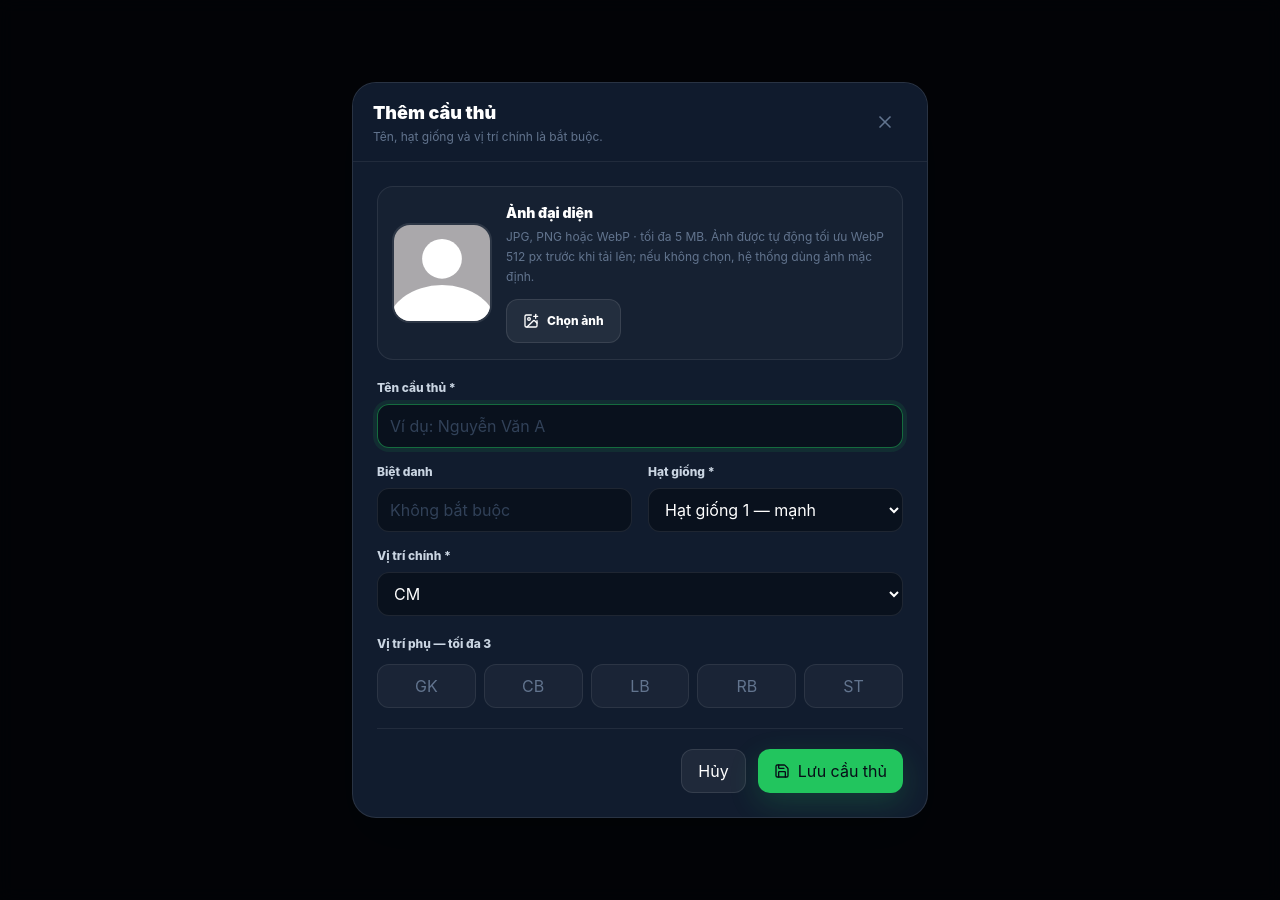
Test: PlayerFormDialog › cho phép chọn tối đa ba vị trí phụ
This screenshot has width=1280, height=900.
Step 1. Click the button "GK" → coordinates (426, 686), box [377,664,476,708]
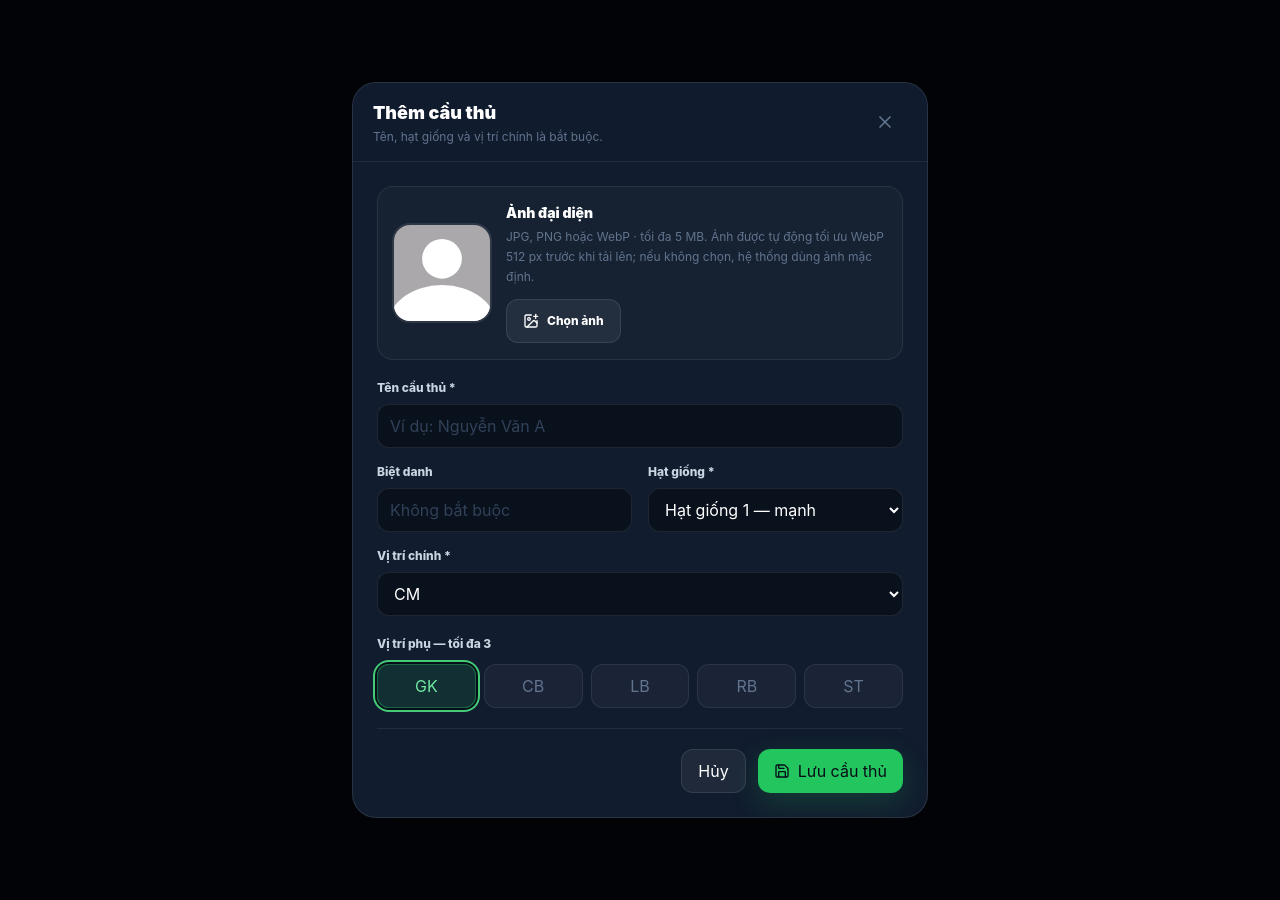
Step 2. Click the button "CB" → coordinates (533, 686), box [484,664,583,708]
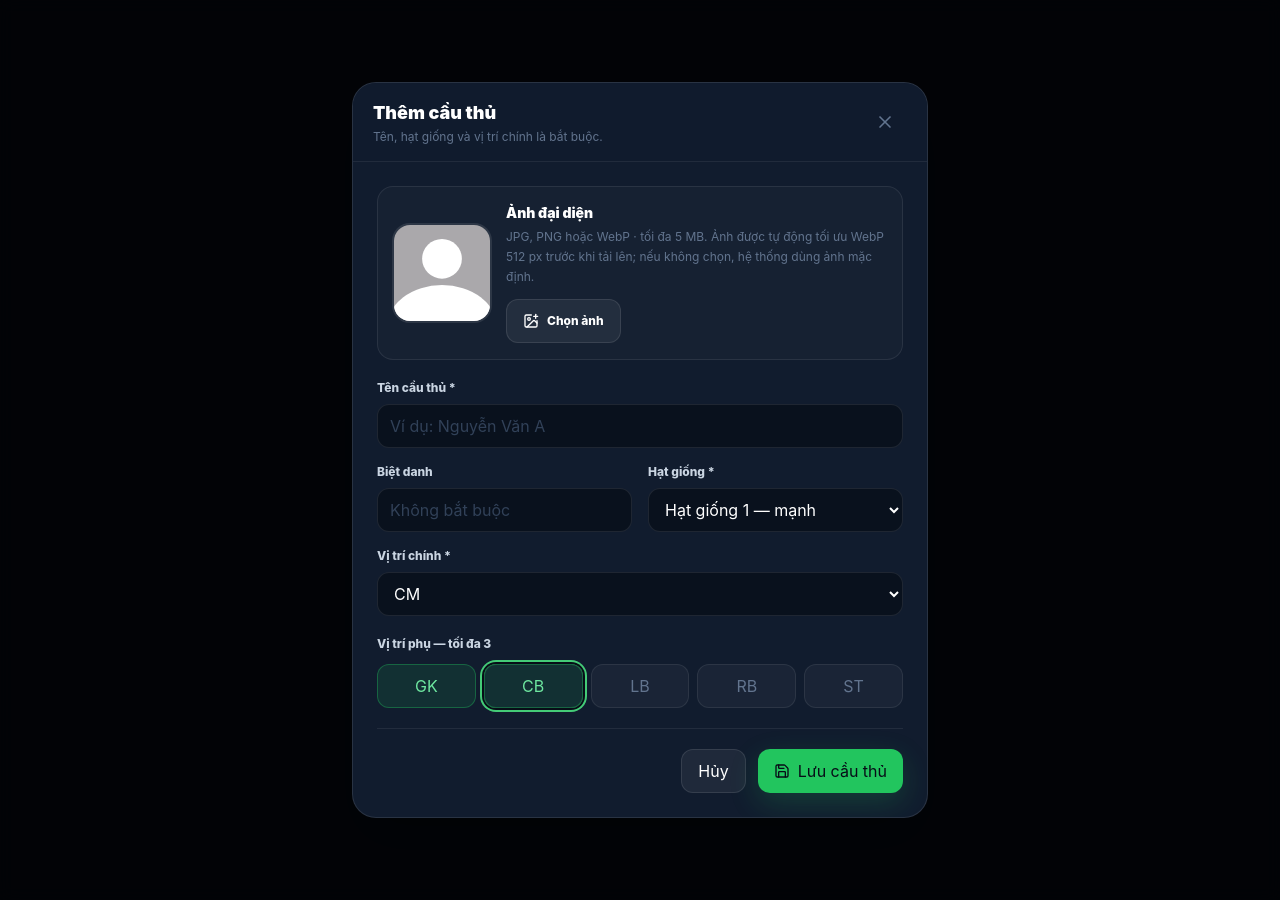
Step 3. Click the button "LB" → coordinates (640, 686), box [591,664,689,708]
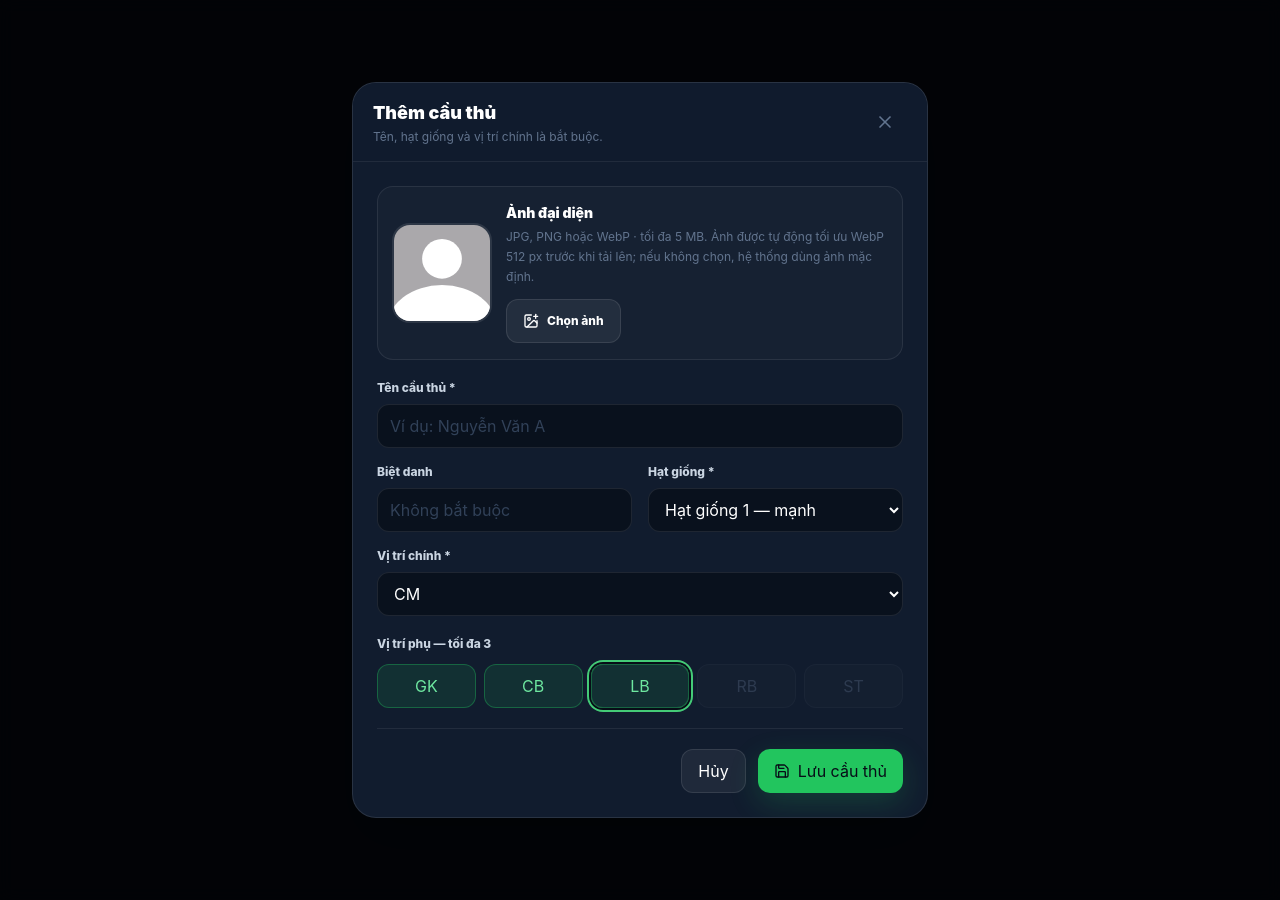
Now the button "RB" is disabled, box [697,664,796,708]
Step 4. Click the button "LB" → coordinates (640, 686), box [591,664,689,708]
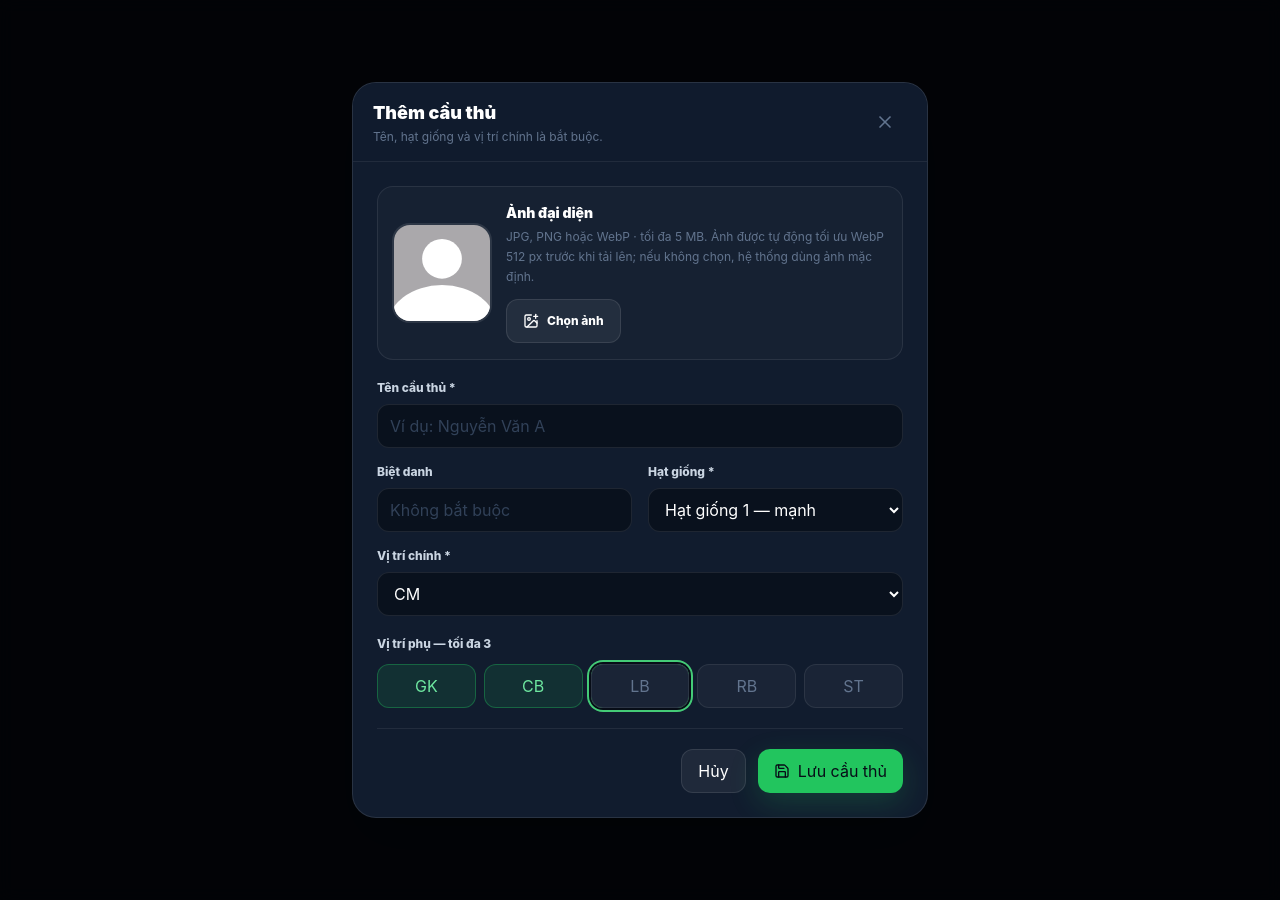
Now the button "RB" is enabled, box [697,664,796,708]
